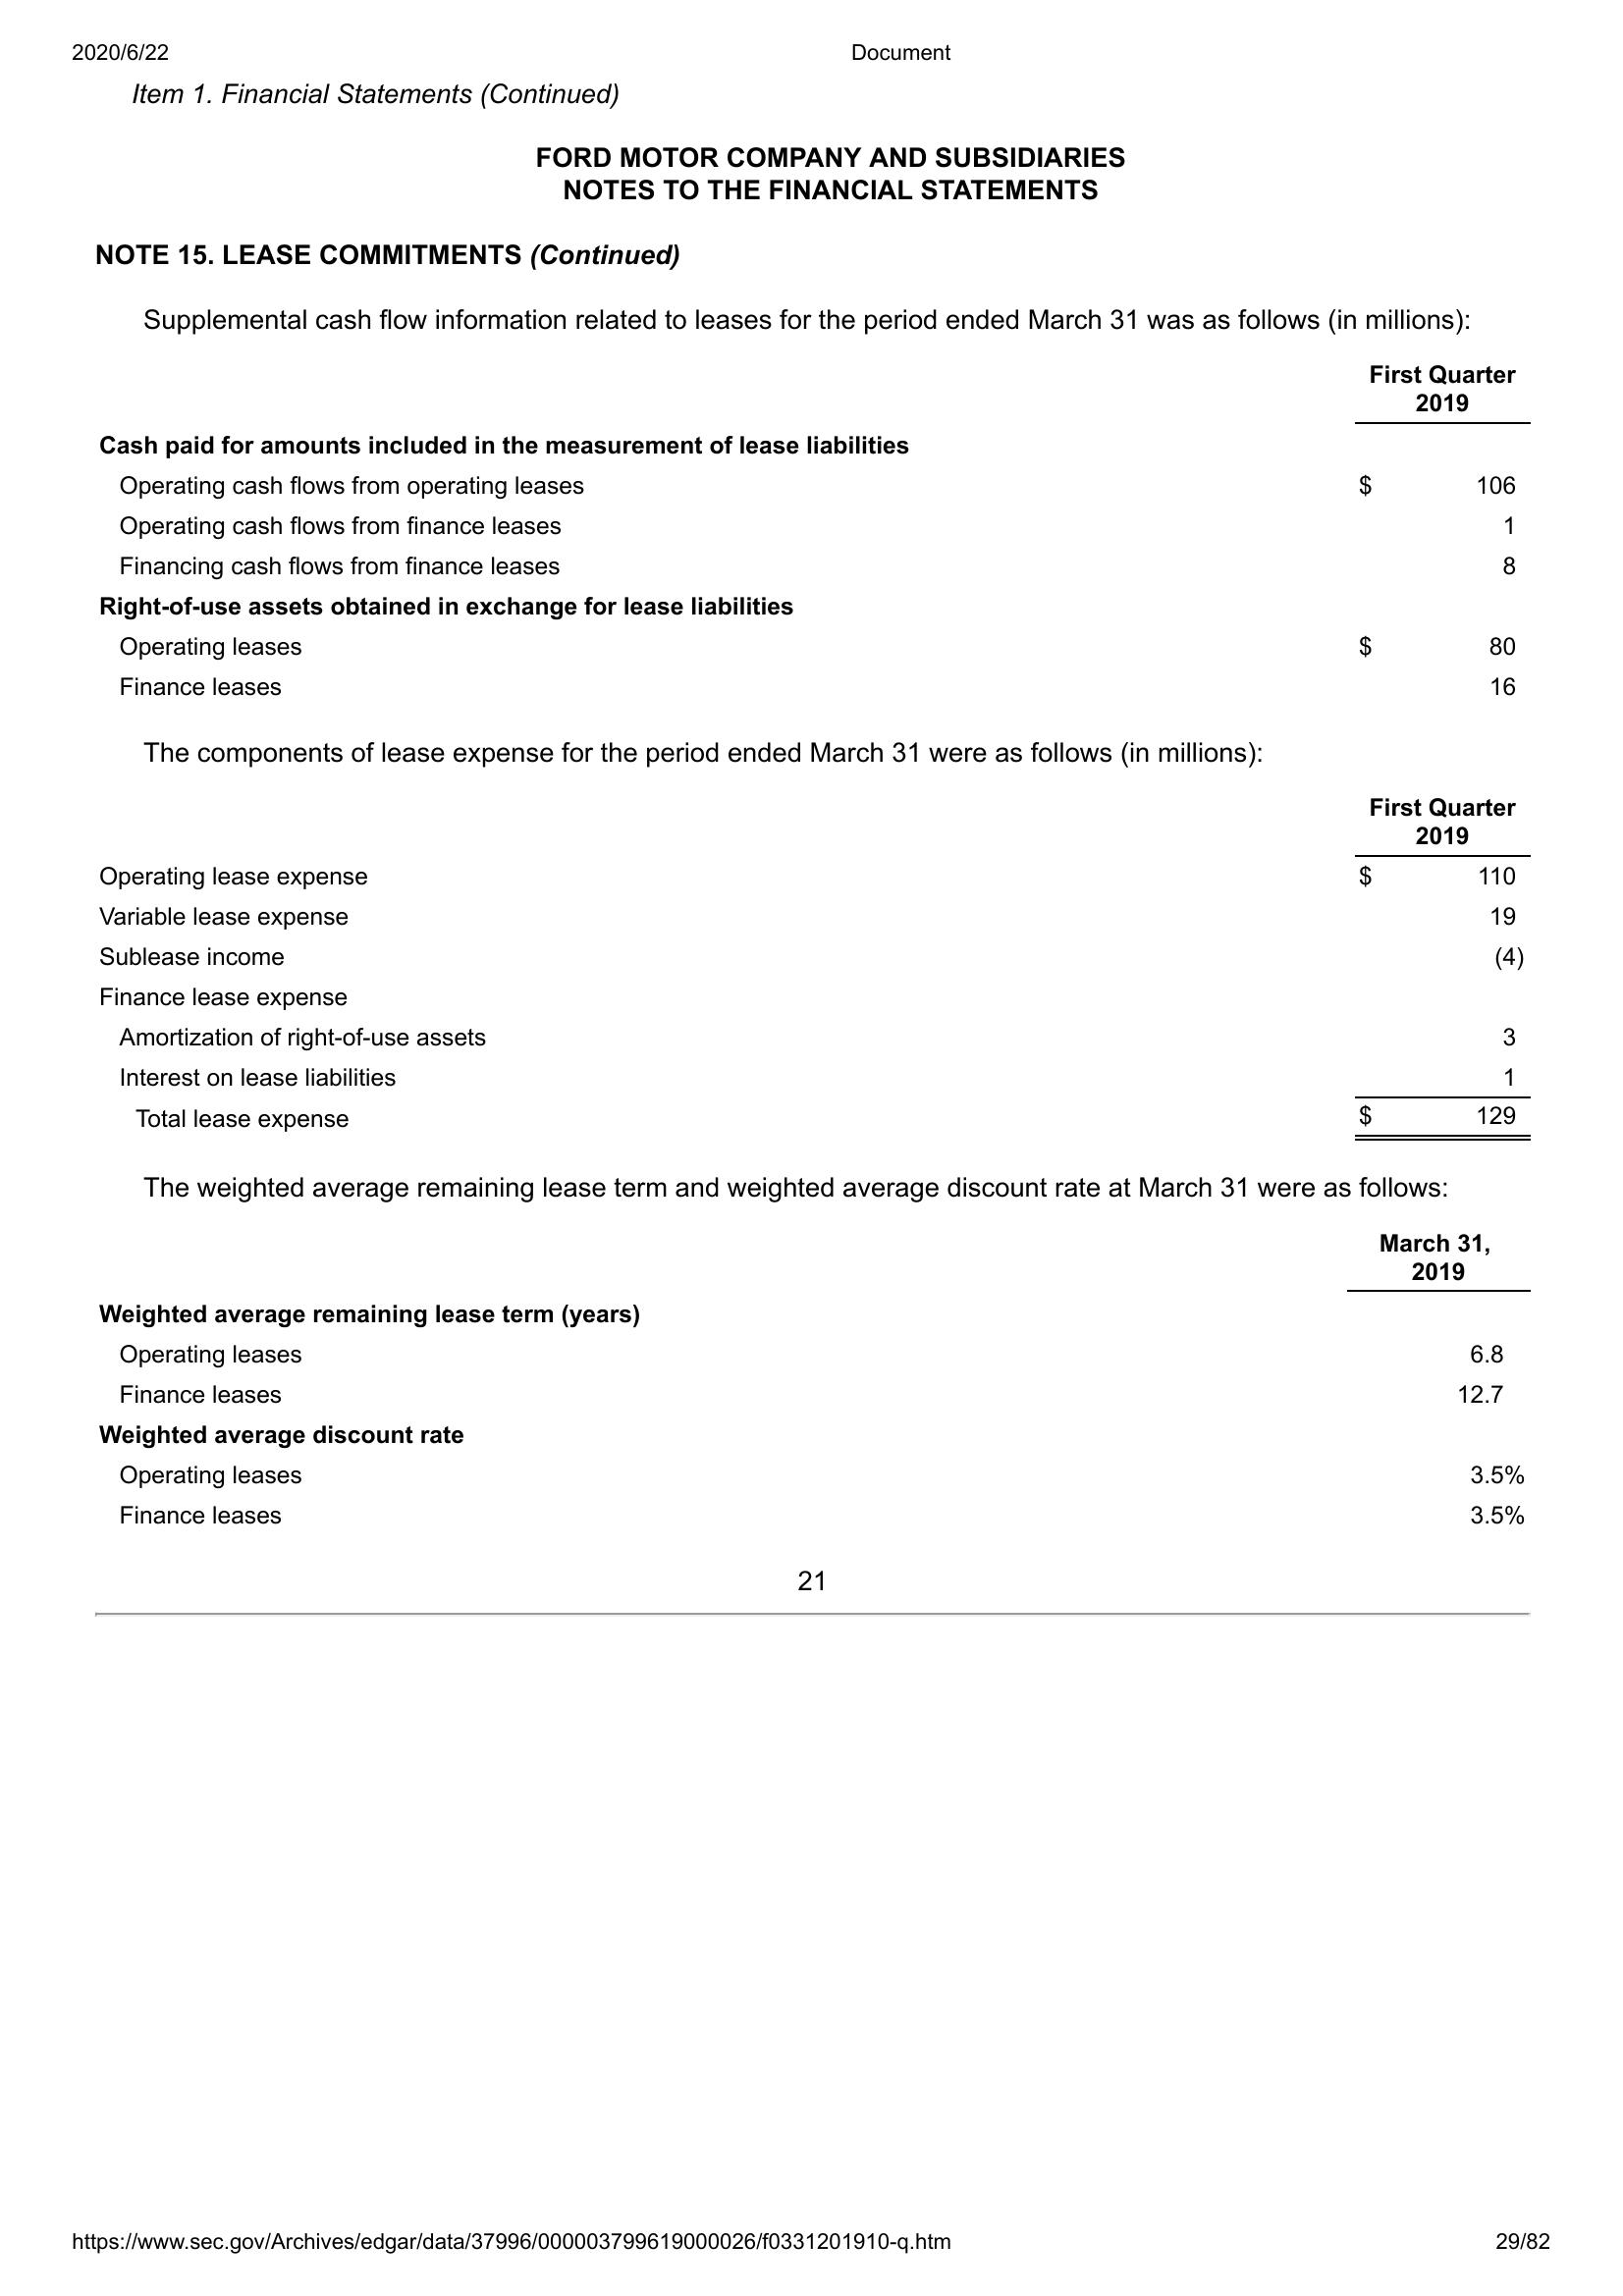table: (83, 353, 1521, 711), (90, 793, 1533, 1144), (91, 1220, 1535, 1538)
